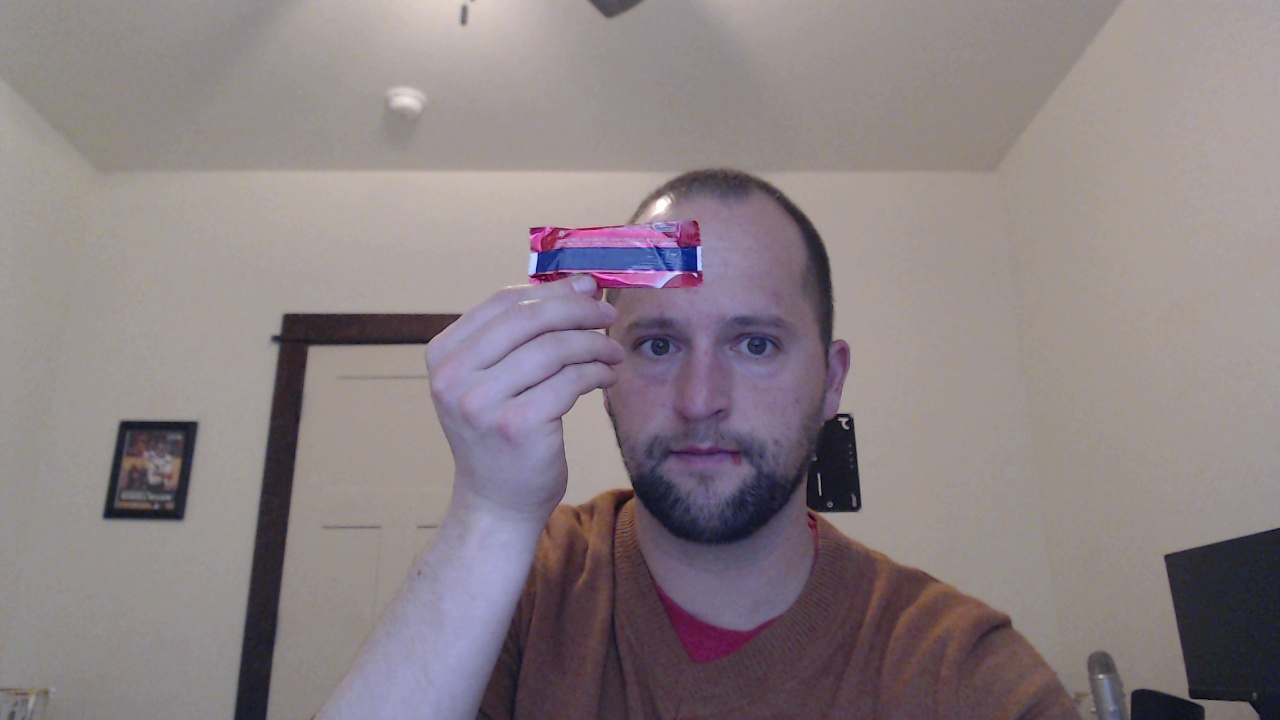airheads: (510, 203, 730, 312)
